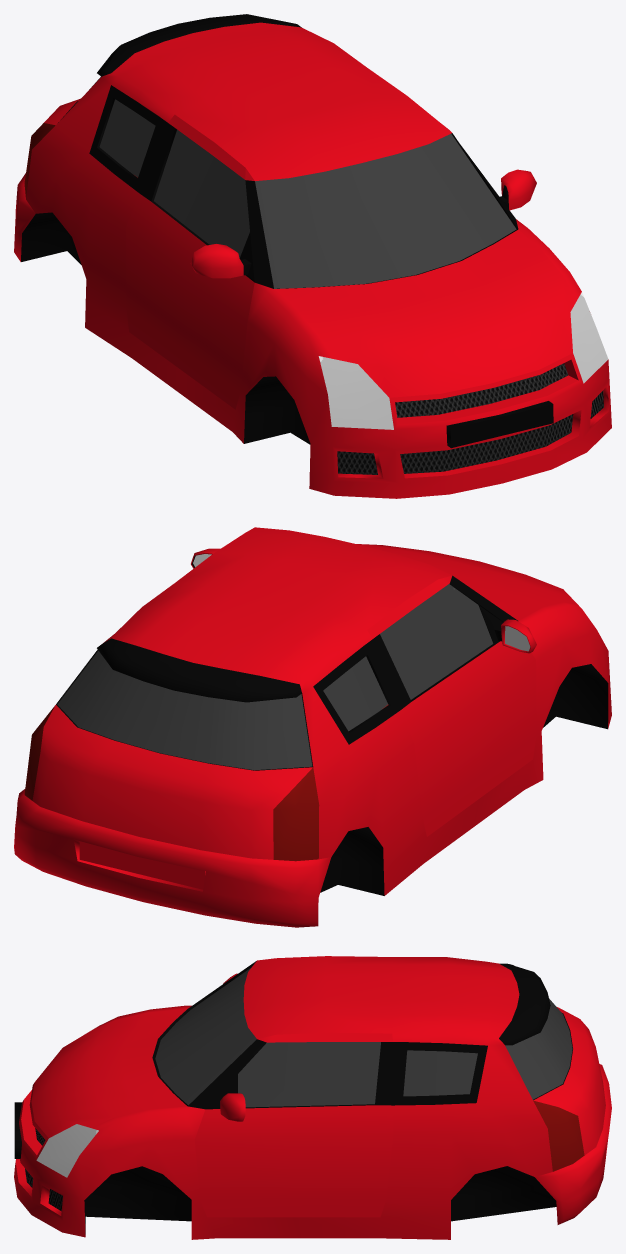
The model's file is swift.glb.
The picture shows the model from 3 angles, top to bottom: view 1: azimuth 30°, elevation 25°; view 2: azimuth 150°, elevation 25°; view 3: azimuth 270°, elevation 25°; orthographic projection. The views are drawn at different scales.
Parts seen in each view (by area): view 1: Hayai; view 2: Hayai; view 3: Hayai.
Part boxes in pixels (<box>): Hayai: <box>14,14,611,498</box>; Hayai: <box>14,527,611,927</box>; Hayai: <box>14,956,611,1239</box>.
Size of the model in its own units: 1.88 by 1.23 by 3.47.
4 materials, 2 textured.
